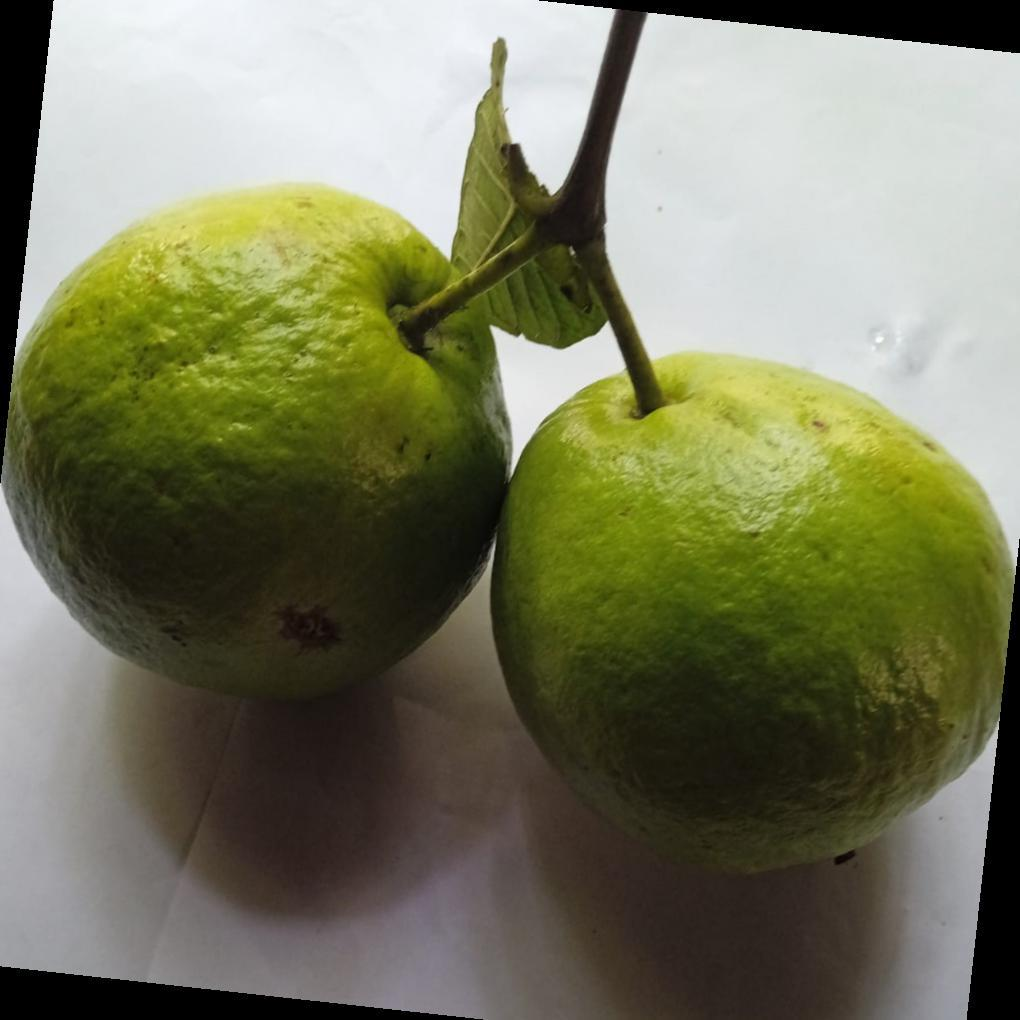FreshGuava: (0, 42, 1017, 883)
